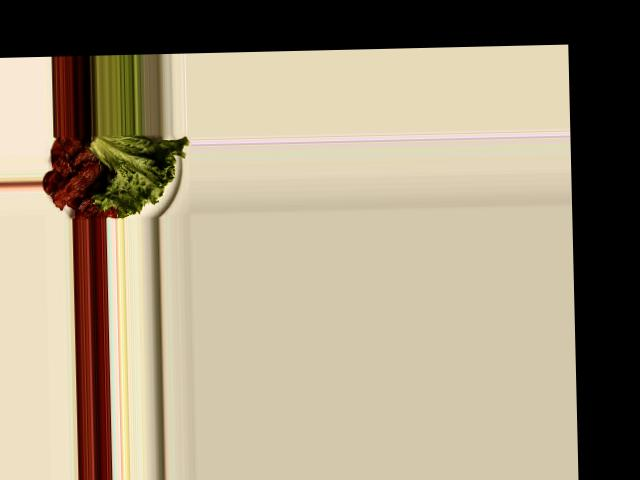lettuce: (90, 133, 185, 216)
